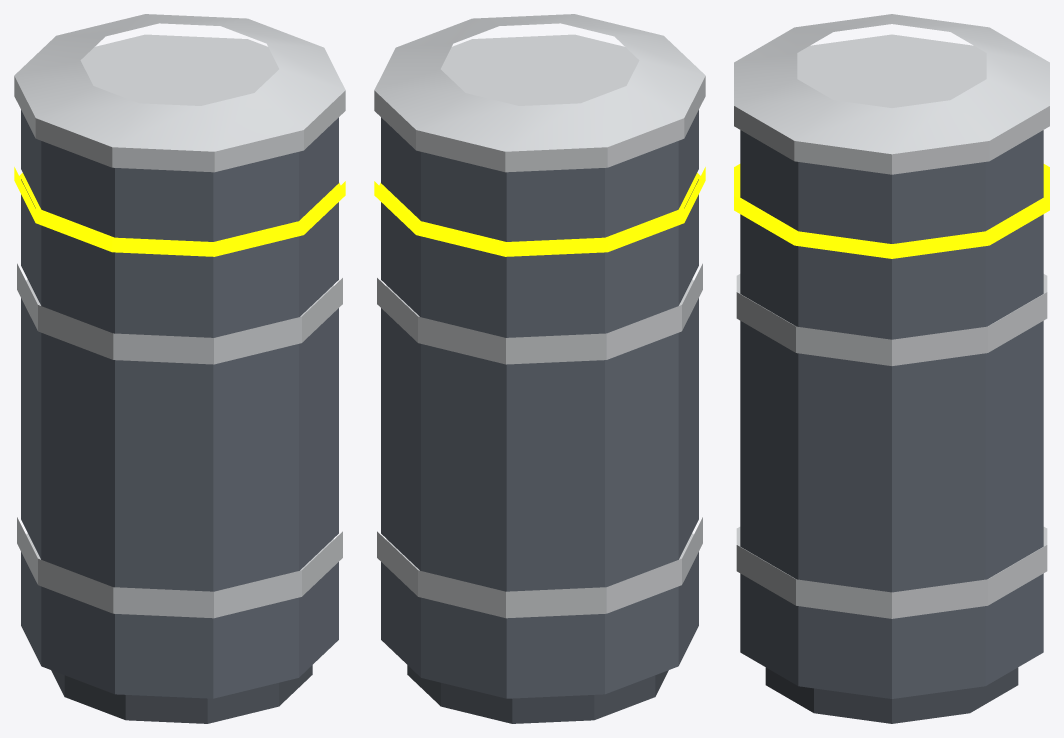
File: ext_bin_recycler_02.glb
3 renders of one model, left to right at view 1: azimuth 30°, elevation 25°; view 2: azimuth 150°, elevation 25°; view 3: azimuth 270°, elevation 25°, orthographic.
Visible parts, largest first — view 1: Drum, Lid, Bands, Base, Chute_Ring; view 2: Drum, Lid, Bands, Base, Chute_Ring; view 3: Drum, Lid, Bands, Base, Chute_Ring.
Part boxes in pixels (box(x1,y1,x2,y2)): Drum: box(21, 110, 338, 698); Lid: box(14, 14, 345, 172); Bands: box(17, 263, 342, 618); Base: box(51, 665, 312, 723); Chute_Ring: box(14, 167, 345, 256); Drum: box(381, 110, 698, 698); Lid: box(374, 14, 705, 172); Bands: box(377, 263, 702, 618); Base: box(407, 665, 668, 723); Chute_Ring: box(374, 167, 705, 256); Drum: box(740, 130, 1043, 698); Lid: box(734, 14, 1049, 174); Bands: box(736, 274, 1047, 618); Base: box(765, 667, 1018, 723); Chute_Ring: box(734, 164, 1049, 258).
Size of the model in its own units: 0.5 by 1 by 0.4755.
